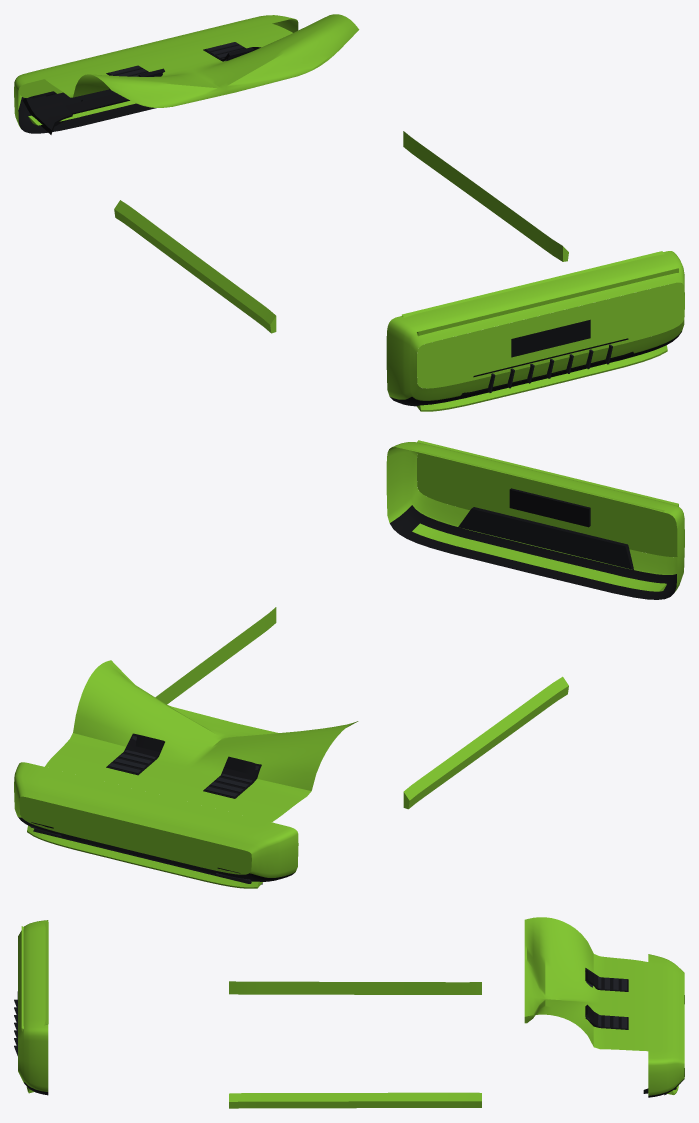
The model's file is kit_street.glb.
3 views of the same model, one above another, from view 1: azimuth 30°, elevation 25°; view 2: azimuth 150°, elevation 25°; view 3: azimuth 270°, elevation 25° (orthographic). The views are drawn at different scales.
Parts seen in each view (by area): view 1: bumper_front__street, bumper_rear__street, hood__street, skirts__street, spoiler__street; view 2: bumper_front__street, hood__street, bumper_rear__street, skirts__street, spoiler__street; view 3: hood__street, skirts__street, bumper_front__street, bumper_rear__street, spoiler__street.
Boxes of the visible parts, box(x1,y1,x2,y2) form: bumper_front__street: box(14, 15, 684, 388); bumper_rear__street: box(386, 251, 684, 411); hood__street: box(45, 14, 359, 107); skirts__street: box(114, 131, 568, 333); spoiler__street: box(402, 251, 678, 336); bumper_front__street: box(14, 452, 677, 888); hood__street: box(45, 660, 358, 822); bumper_rear__street: box(386, 442, 684, 599); skirts__street: box(155, 607, 568, 809); spoiler__street: box(402, 440, 678, 511); hood__street: box(524, 917, 648, 1051); skirts__street: box(229, 981, 481, 1108); bumper_front__street: box(643, 954, 684, 1097); bumper_rear__street: box(14, 920, 48, 1095); spoiler__street: box(21, 922, 48, 1031).
Size of what is drawn, in the model's own units: 2.04 by 0.7016 by 4.93.
